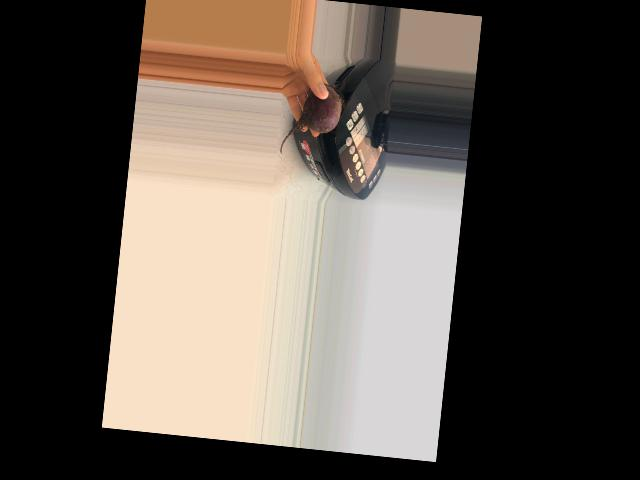beet: (279, 80, 346, 159)
